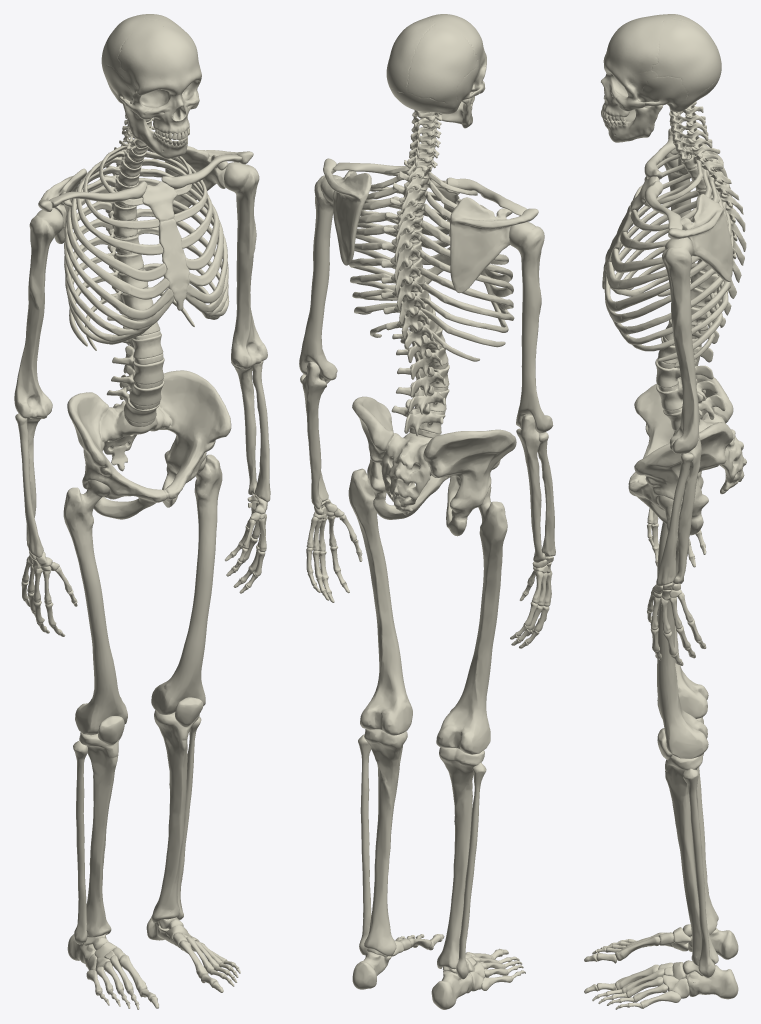
File: skeleton_head_b.glb
3 views of the same model, side by side, from view 1: azimuth 30°, elevation 25°; view 2: azimuth 150°, elevation 25°; view 3: azimuth 270°, elevation 25° (orthographic).
Visible parts, largest first — view 1: Object_4, Object_12, Object_13, Object_11, Object_9, Object_7, Object_5, Object_8, Object_17, Object_21, Object_18, Object_16 (+4 smaller); view 2: Object_13, Object_12, Object_5, Object_4, Object_7, Object_11, Object_9, Object_6, Object_17, Object_8, Object_10, Object_21 (+2 smaller); view 3: Object_11, Object_4, Object_12, Object_5, Object_8, Object_13, Object_9, Object_7, Object_6, Object_17, Object_21, Object_10 (+3 smaller).
Boxes of the visible parts, left/top/right/bottom form: Object_4: left=64, top=145, right=229, bottom=350; Object_12: left=67, top=370, right=231, bottom=519; Object_13: left=63, top=454, right=222, bottom=735; Object_11: left=101, top=14, right=201, bottom=158; Object_9: left=14, top=162, right=267, bottom=418; Object_7: left=79, top=710, right=199, bottom=937; Object_5: left=96, top=114, right=164, bottom=426; Object_8: left=67, top=915, right=240, bottom=1009; Object_17: left=21, top=494, right=267, bottom=636; Object_21: left=73, top=716, right=201, bottom=944; Object_18: left=15, top=360, right=270, bottom=557; Object_16: left=141, top=181, right=189, bottom=310; Object_13: left=348, top=468, right=507, bottom=754; Object_12: left=352, top=396, right=516, bottom=536; Object_5: left=381, top=118, right=449, bottom=438; Object_4: left=349, top=166, right=514, bottom=361; Object_7: left=364, top=729, right=484, bottom=969; Object_11: left=386, top=14, right=486, bottom=128; Object_9: left=299, top=175, right=553, bottom=433; Object_6: left=323, top=158, right=538, bottom=293; Object_17: left=306, top=499, right=553, bottom=648; Object_8: left=352, top=934, right=525, bottom=1009; Object_10: left=302, top=361, right=545, bottom=562; Object_21: left=358, top=734, right=486, bottom=979; Object_11: left=601, top=14, right=721, bottom=142; Object_4: left=604, top=150, right=733, bottom=367; Object_12: left=628, top=374, right=746, bottom=535; Object_5: left=655, top=111, right=746, bottom=432; Object_8: left=584, top=924, right=738, bottom=1009; Object_13: left=657, top=495, right=708, bottom=758; Object_9: left=662, top=152, right=699, bottom=453; Object_7: left=665, top=717, right=718, bottom=965; Object_6: left=668, top=128, right=732, bottom=281; Object_17: left=647, top=508, right=706, bottom=665; Object_21: left=683, top=767, right=715, bottom=977; Object_10: left=673, top=344, right=701, bottom=583.
Size of the model in its own units: 1.88 by 6.91 by 1.06.
